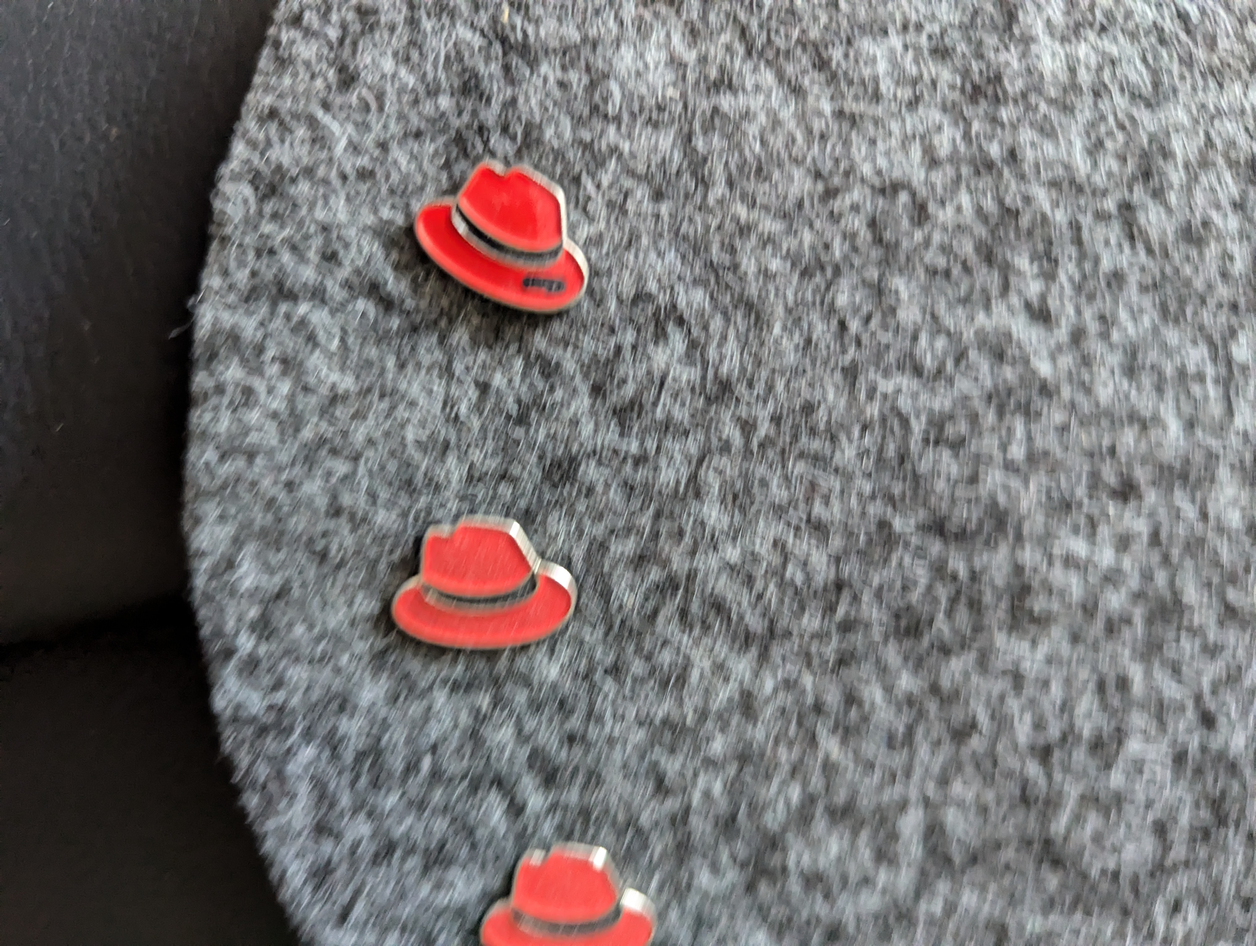Red-Hat: (389, 135, 613, 329), (372, 501, 589, 667), (466, 825, 683, 946)
Scratch: (506, 265, 582, 299)
